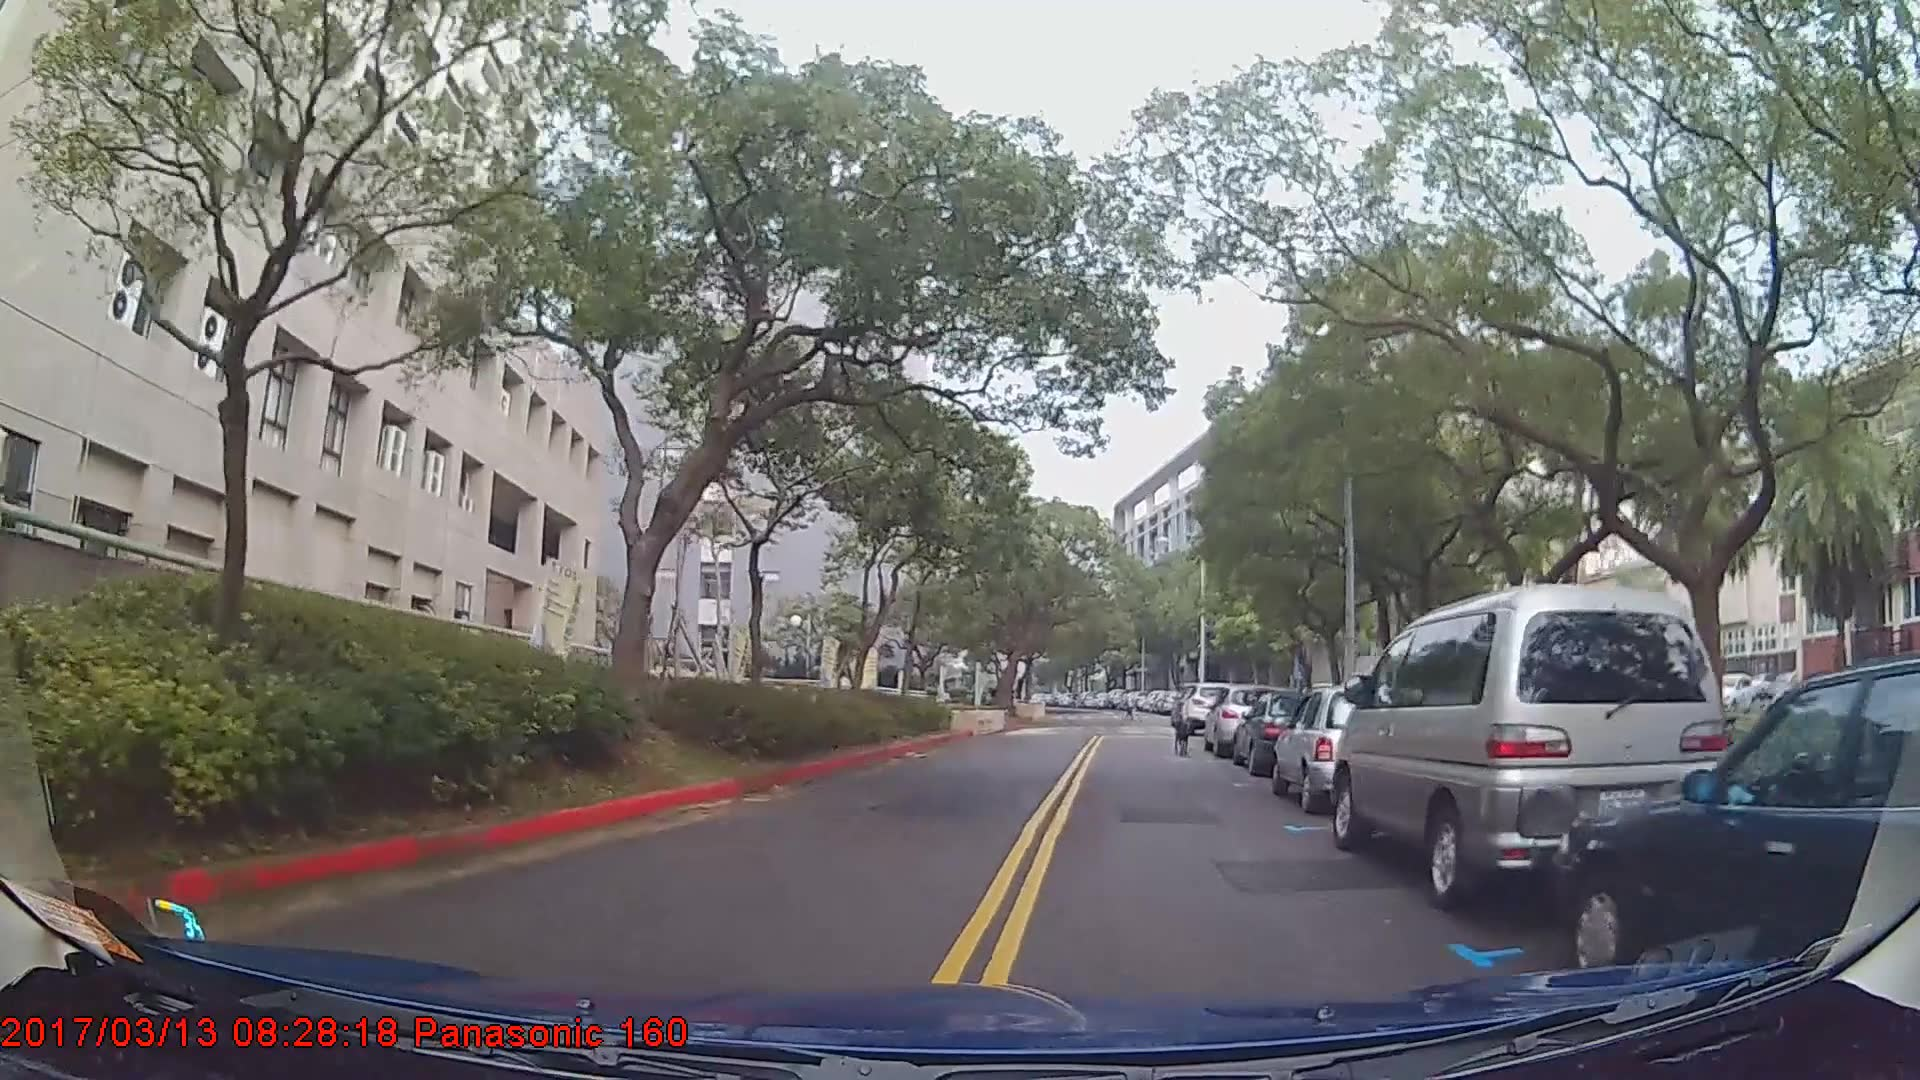vehicle: (1331, 580, 1731, 910), (1553, 659, 1920, 1013), (1269, 686, 1424, 812), (1204, 682, 1290, 756)
